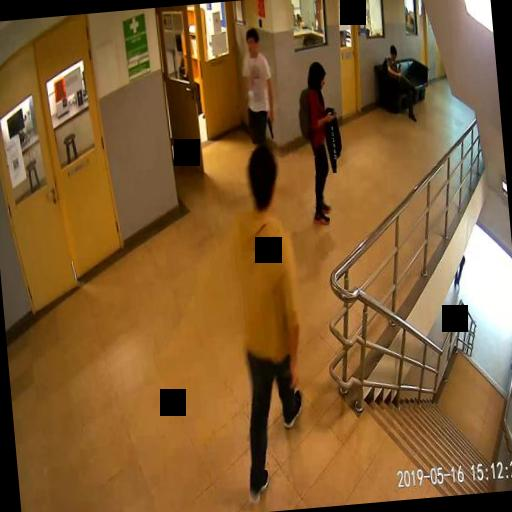Handgun: (264, 112, 274, 137)
